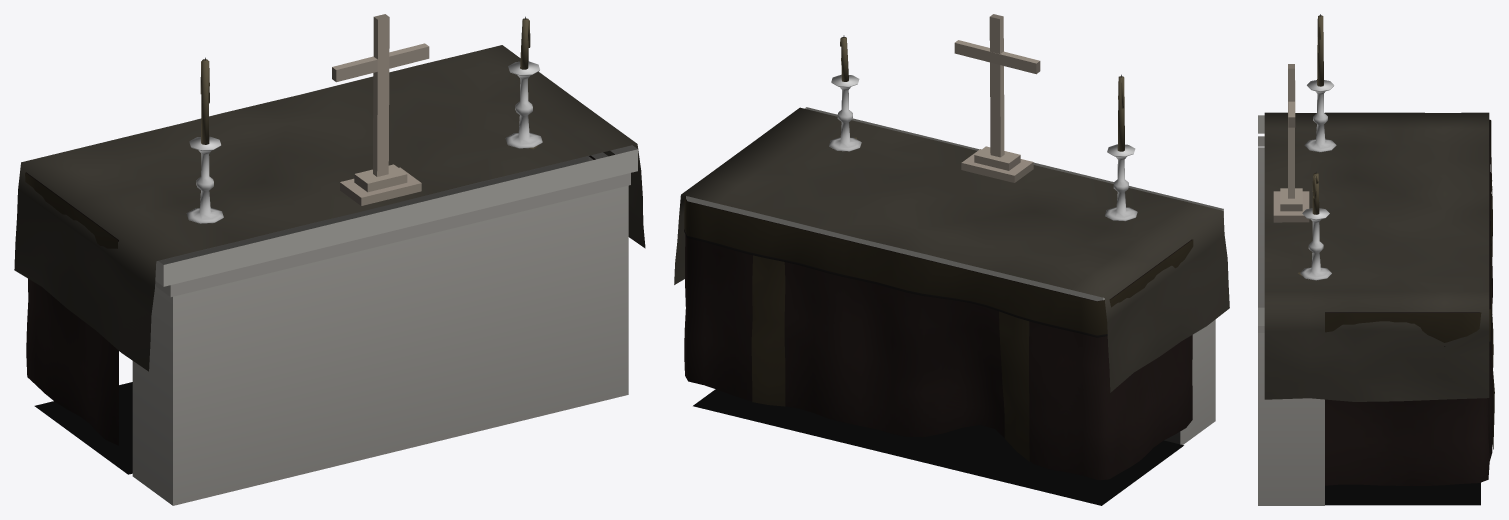
The model's file is prop_altar.glb.
3 renders of one model, left to right at view 1: azimuth 30°, elevation 25°; view 2: azimuth 150°, elevation 25°; view 3: azimuth 270°, elevation 25°, orthographic. The views are drawn at different scales.
Visible parts, largest first — view 1: Altar, AltarSoft; view 2: AltarSoft, Altar; view 3: AltarSoft, Altar.
Boxes of the visible parts, x1,y1,x2,y2 form: Altar: [34, 14, 637, 505]; AltarSoft: [14, 16, 645, 445]; AltarSoft: [674, 35, 1229, 480]; Altar: [686, 14, 1223, 505]; AltarSoft: [1264, 14, 1494, 485]; Altar: [1258, 64, 1480, 505].
Size of the model in its own units: 2.14 by 1.72 by 1.06.
